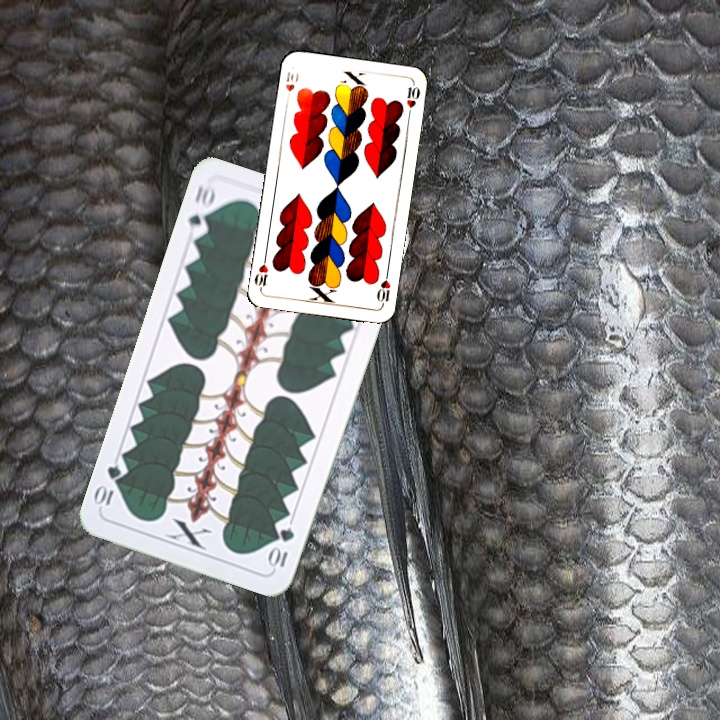G10: (184, 179, 219, 241), (264, 523, 297, 572)
H10: (372, 268, 393, 308), (282, 68, 301, 104)
